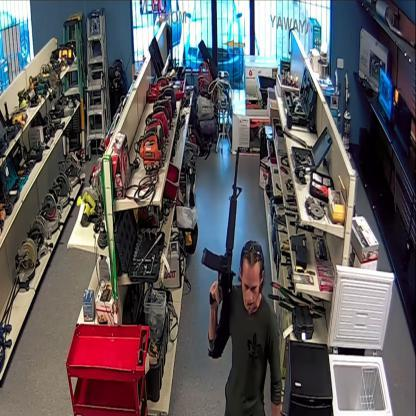al: (201, 138, 245, 360)
